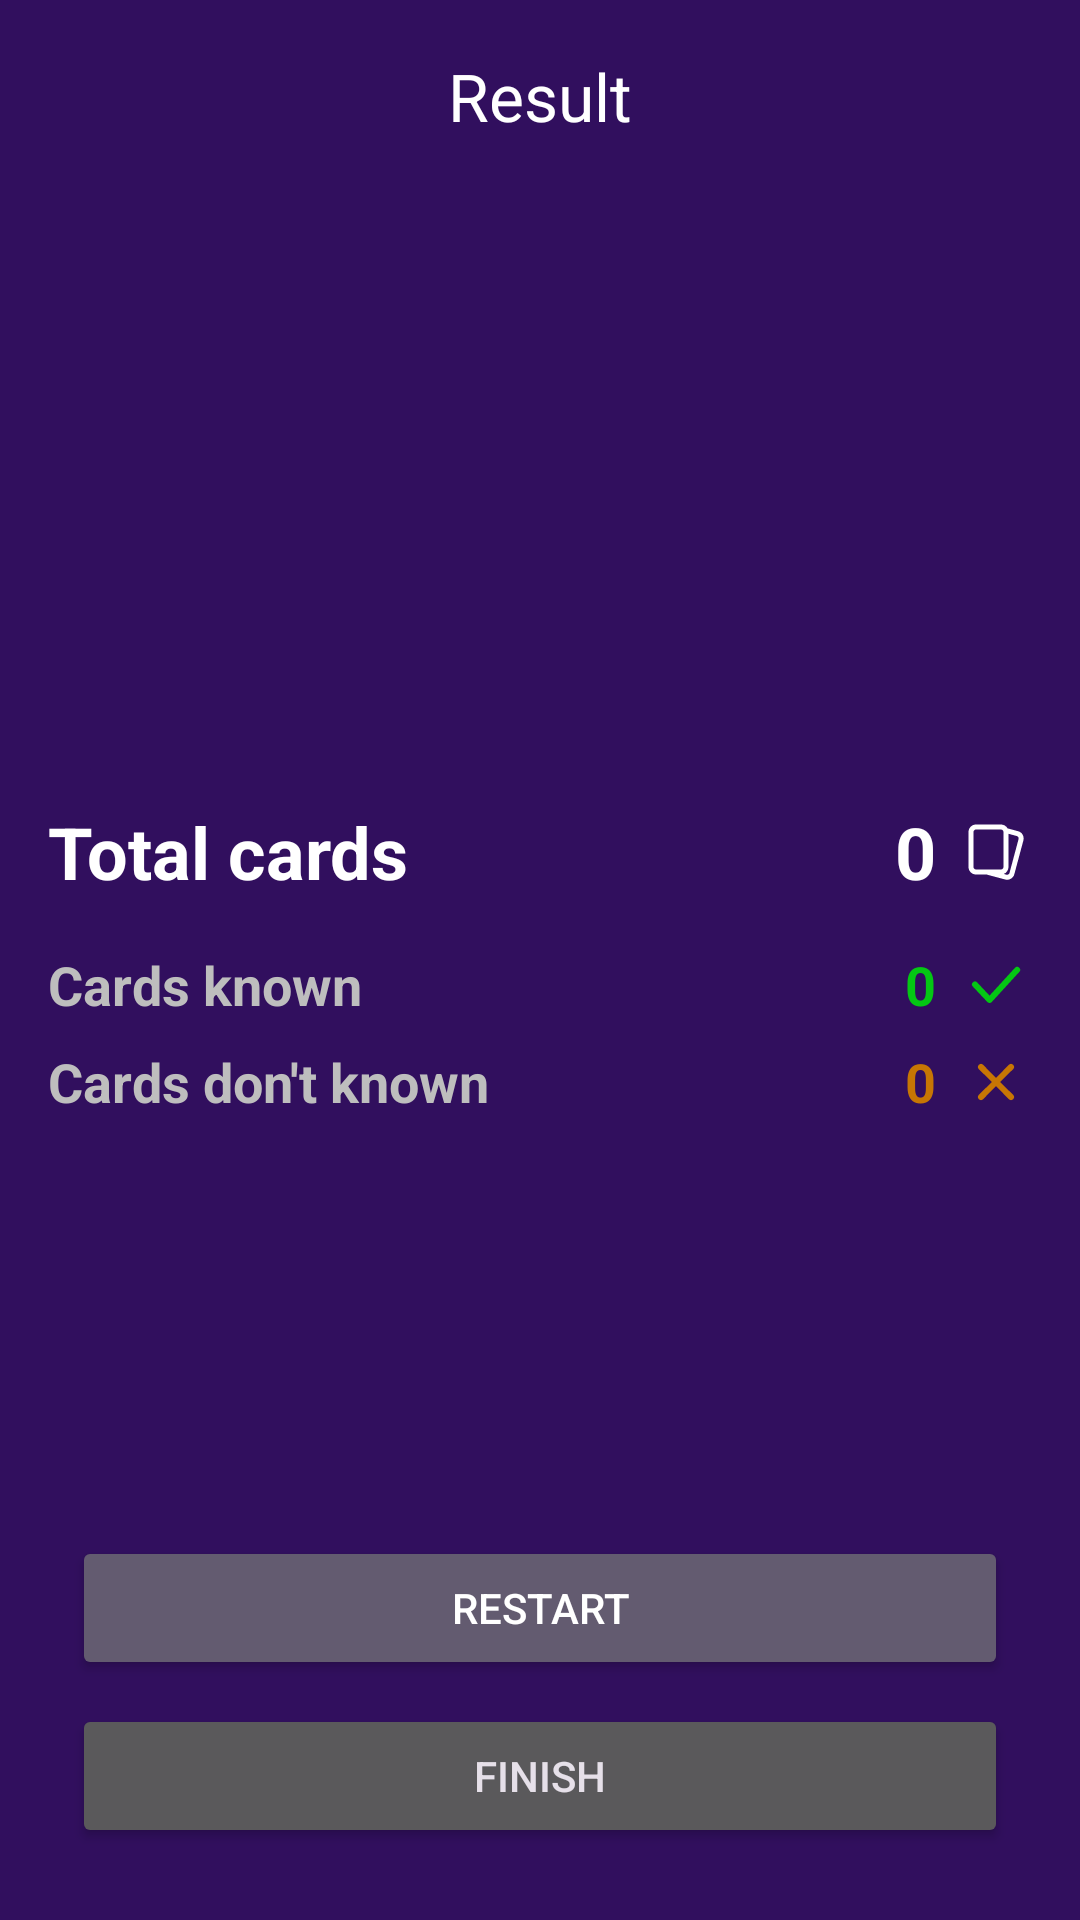

Named icons in this screenshot (1080*1920) and their bounding boxes, {"x1": x1, "y1": y1, "x2": x2, "y2": y2}:
cards: {"x1": 968, "y1": 824, "x2": 1024, "y2": 880}
checkmark: {"x1": 972, "y1": 966, "x2": 1021, "y2": 1003}
incorrect: {"x1": 978, "y1": 1064, "x2": 1014, "y2": 1100}
